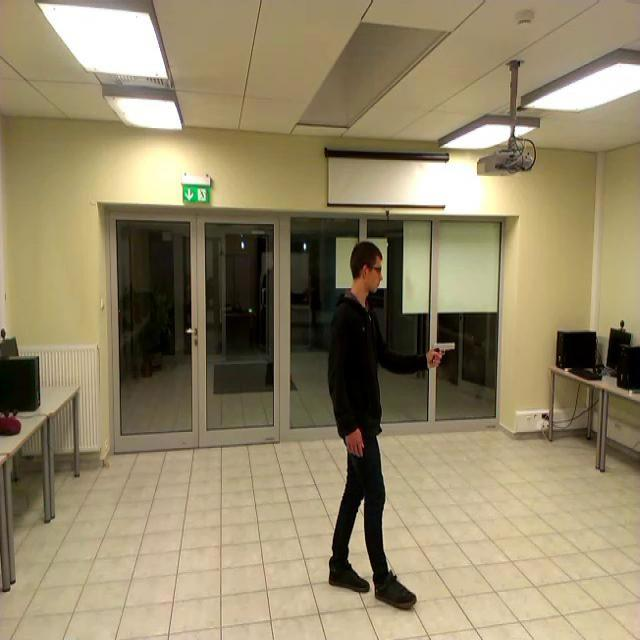weapon: (428, 342, 456, 372)
